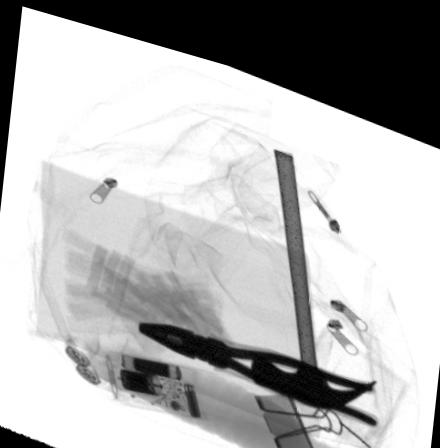Hammer: (249, 135, 376, 390)
Pliers: (138, 312, 377, 406)
